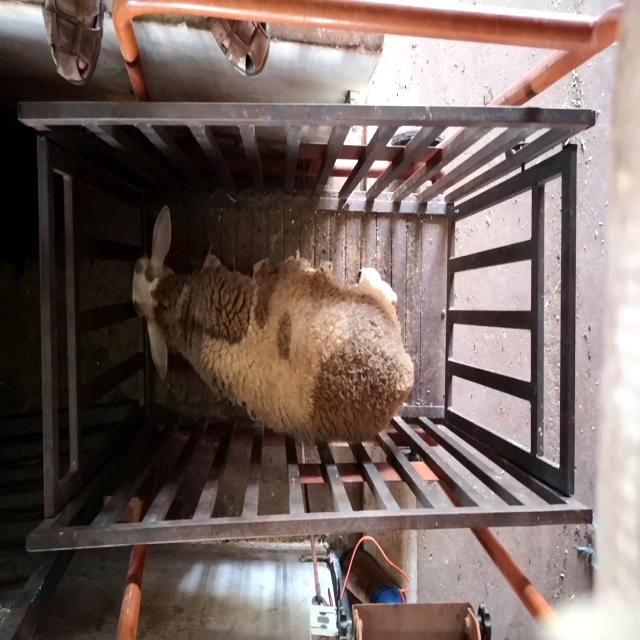sheep: (132, 204, 414, 443)
